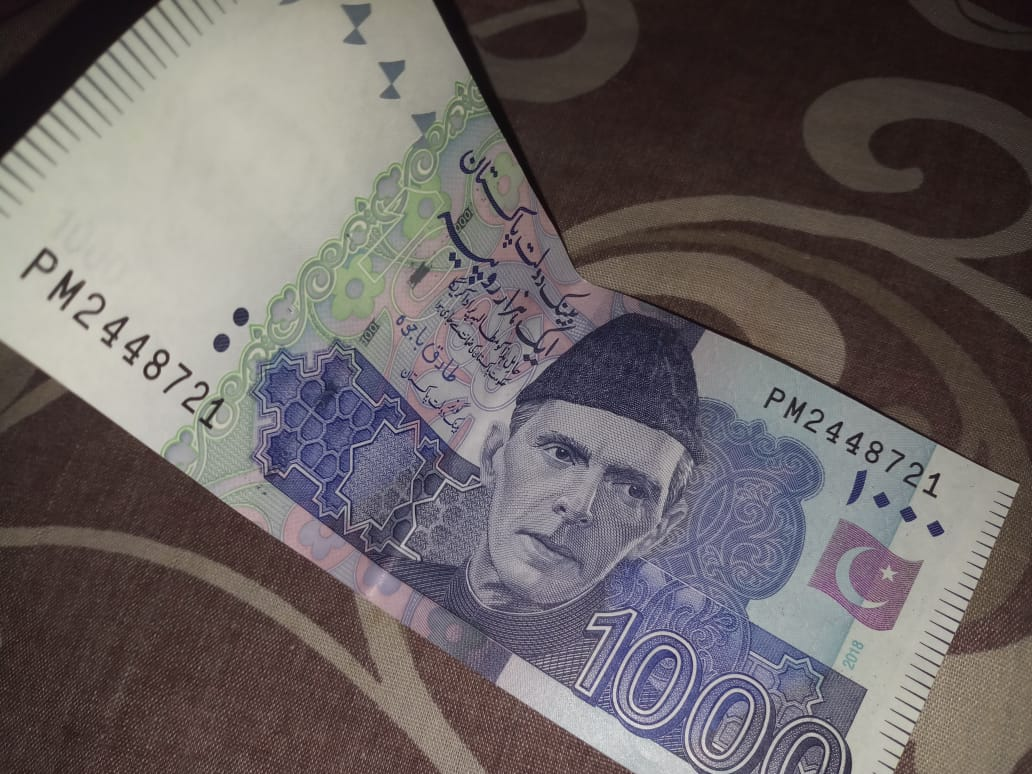1000 rupee: (14, 10, 1022, 774)
